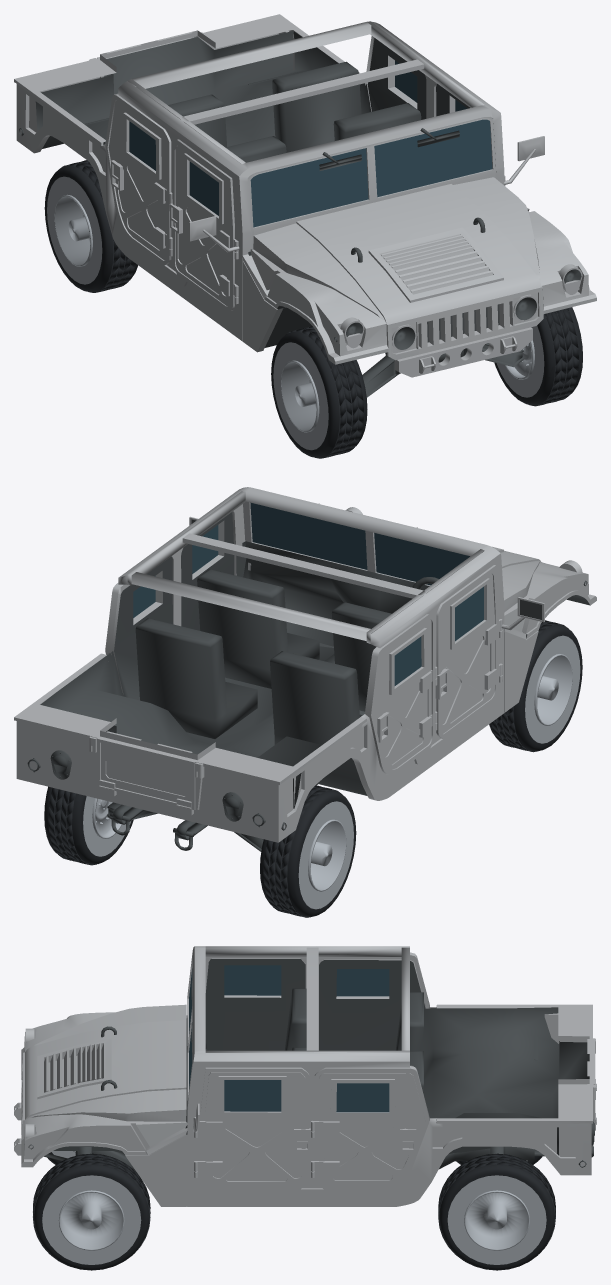
File: manticore.glb
The picture shows the model from 3 angles, top to bottom: view 1: azimuth 30°, elevation 25°; view 2: azimuth 150°, elevation 25°; view 3: azimuth 270°, elevation 25°; orthographic projection. The views are drawn at different scales.
Visible parts, largest first — view 1: paint, trim, glass, front right tire, front right alloy, rear right alloy, front left tire, rear right tire, front left alloy; view 2: paint, trim, glass, rear right tire, front right alloy, rear right alloy, rear left tire, front right tire, rear left alloy; view 3: paint, trim, glass, front left alloy, rear left alloy, rear left tire, front left tire.
Boxes of the visible parts, x1,y1,x2,y2 form: paint: (14, 14, 596, 377); trim: (19, 31, 581, 397); glass: (129, 60, 492, 227); front right tire: (271, 326, 367, 458); front right alloy: (273, 342, 328, 450); rear right alloy: (47, 176, 102, 284); front left tire: (494, 307, 582, 406); rear right tire: (44, 160, 137, 292); front left alloy: (496, 325, 544, 397); paint: (14, 487, 596, 842); trim: (27, 503, 590, 851); glass: (133, 502, 483, 685); rear right tire: (260, 785, 356, 917); front right alloy: (525, 635, 580, 743); rear right alloy: (298, 801, 353, 909); rear left tire: (44, 786, 133, 865); front right tire: (489, 620, 582, 752); rear left alloy: (83, 796, 131, 856); paint: (14, 946, 596, 1206); trim: (28, 959, 594, 1174); glass: (189, 965, 389, 1112); front left alloy: (42, 1175, 141, 1264); rear left alloy: (447, 1175, 546, 1264); rear left tire: (438, 1153, 555, 1270); front left tire: (33, 1153, 150, 1270).
Bounding box in the file's own units: 3.15 × 2.07 × 5.
